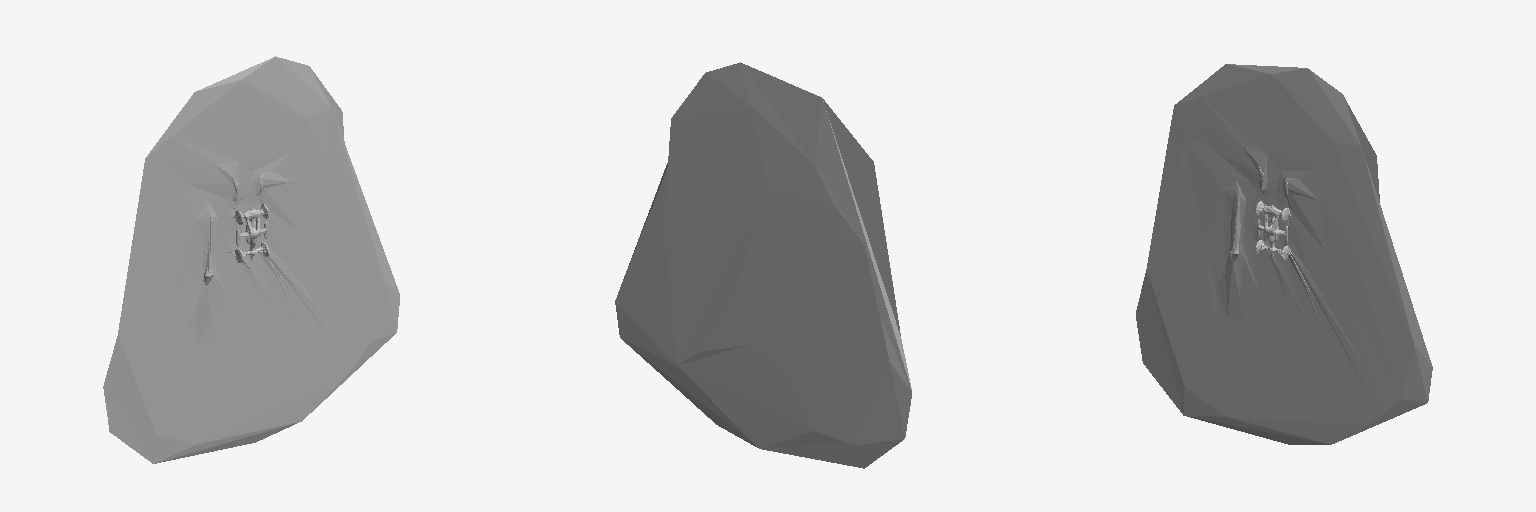
Rendered from car_v3_for_aos4.obj.
3 renders of one model, left to right at view 1: azimuth 30°, elevation 25°; view 2: azimuth 150°, elevation 25°; view 3: azimuth 330°, elevation 25°, orthographic.
Parts seen in each view (by area): view 1: Object.1; view 2: Object.1; view 3: Object.1.
Part boxes in pixels (left/top/right/bottom): Object.1: left=103, top=56, right=399, bottom=463; Object.1: left=615, top=62, right=911, bottom=468; Object.1: left=1136, top=64, right=1432, bottom=444.
Size of the model in its own units: 439 by 539 by 30.51.